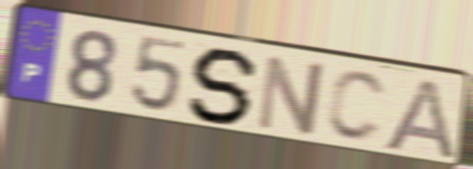5: (128, 32, 189, 117)
8: (64, 28, 120, 106)
A: (378, 75, 459, 162)
C: (323, 68, 390, 145)
N: (253, 52, 328, 139)
S: (185, 45, 264, 127)
